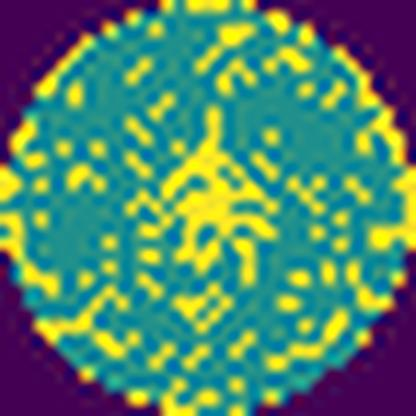Center: (162, 112, 280, 267)
